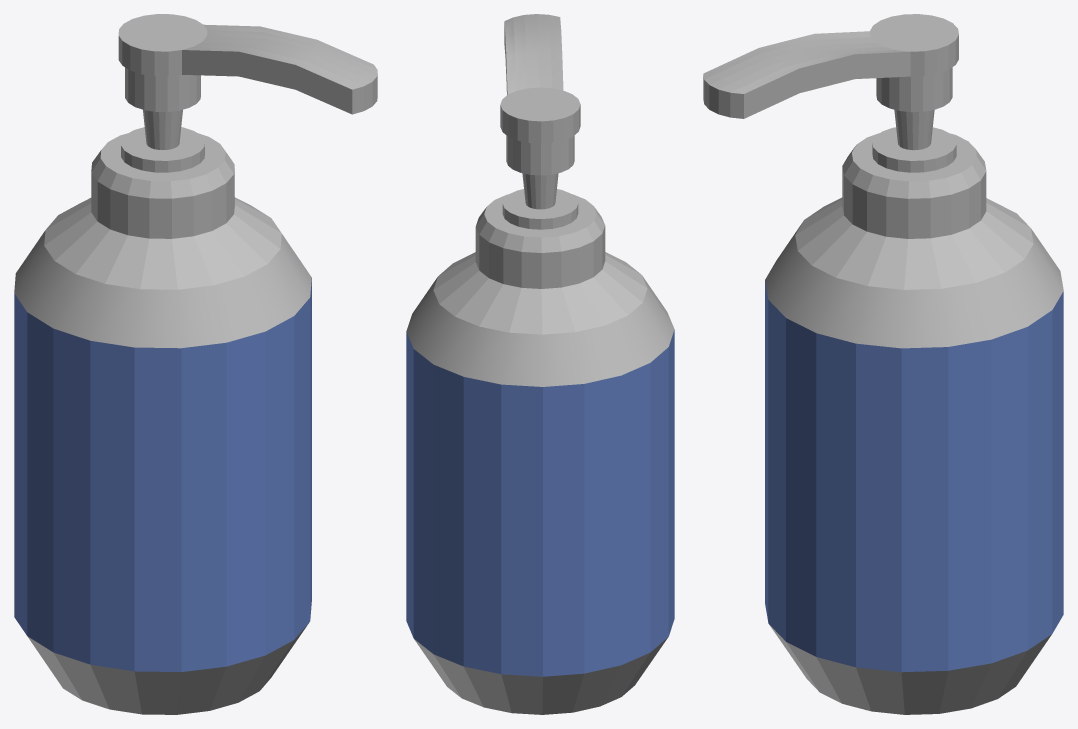
The model's file is Soap_Blue.fbx.
3 views of the same model, side by side, from view 1: azimuth 30°, elevation 25°; view 2: azimuth 150°, elevation 25°; view 3: azimuth 270°, elevation 25° (orthographic). The views are drawn at different scales.
Parts seen in each view (by area): view 1: pCylinder96; view 2: pCylinder96; view 3: pCylinder96.
Part boxes in pixels (bbox=[...]): pCylinder96: bbox=[14, 14, 377, 714]; pCylinder96: bbox=[406, 14, 674, 714]; pCylinder96: bbox=[703, 14, 1063, 714].
Size of the model in its own units: 0.1178 by 0.2817 by 0.1422.
